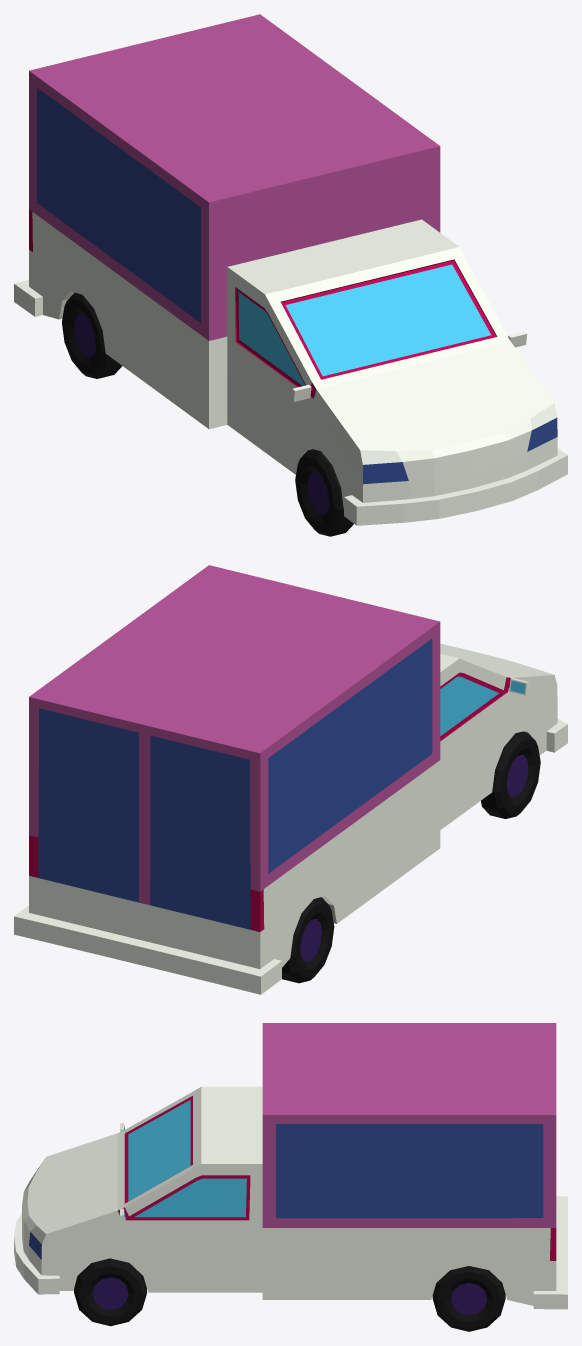
Rendered from car3.glb.
3 views of the same model, one above another, from view 1: azimuth 30°, elevation 25°; view 2: azimuth 150°, elevation 25°; view 3: azimuth 270°, elevation 25° (orthographic). The views are drawn at different scales.
Visible parts, largest first — view 1: body.005, tire, tire.001; view 2: body.005, tire, tire.001; view 3: body.005, tire, tire.001.
Part boxes in pixels (<box>): body.005: <box>14,14,567,525</box>; tire: <box>295,449,353,536</box>; tire.001: <box>62,292,121,378</box>; body.005: <box>14,565,567,994</box>; tire: <box>481,731,540,818</box>; tire.001: <box>282,897,334,983</box>; body.005: <box>14,1023,567,1309</box>; tire: <box>74,1258,146,1326</box>; tire.001: <box>432,1266,505,1331</box>.
Size of the model in its own units: 2.22 by 2.29 by 5.28.
